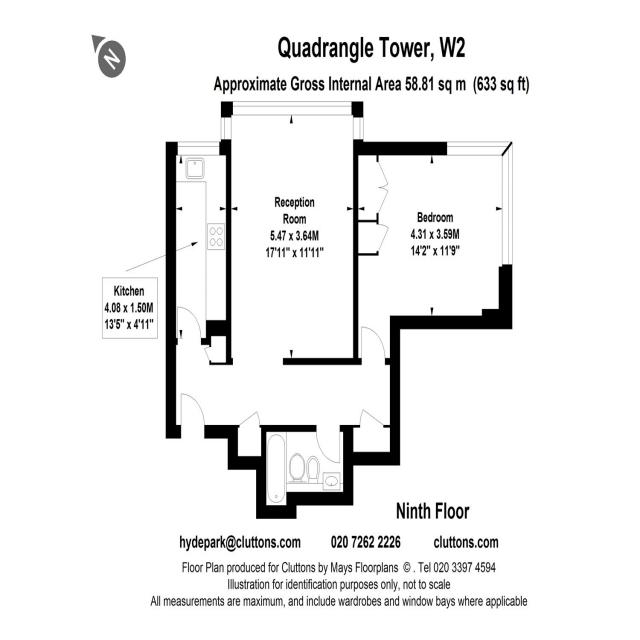DOOR: (179, 392, 205, 439), (314, 424, 341, 466), (360, 325, 386, 365), (176, 306, 202, 345)
ROOM: (220, 100, 364, 365), (352, 141, 513, 365), (165, 141, 232, 345)
WINDOW: (446, 141, 513, 265), (220, 100, 364, 141), (177, 141, 220, 156)
